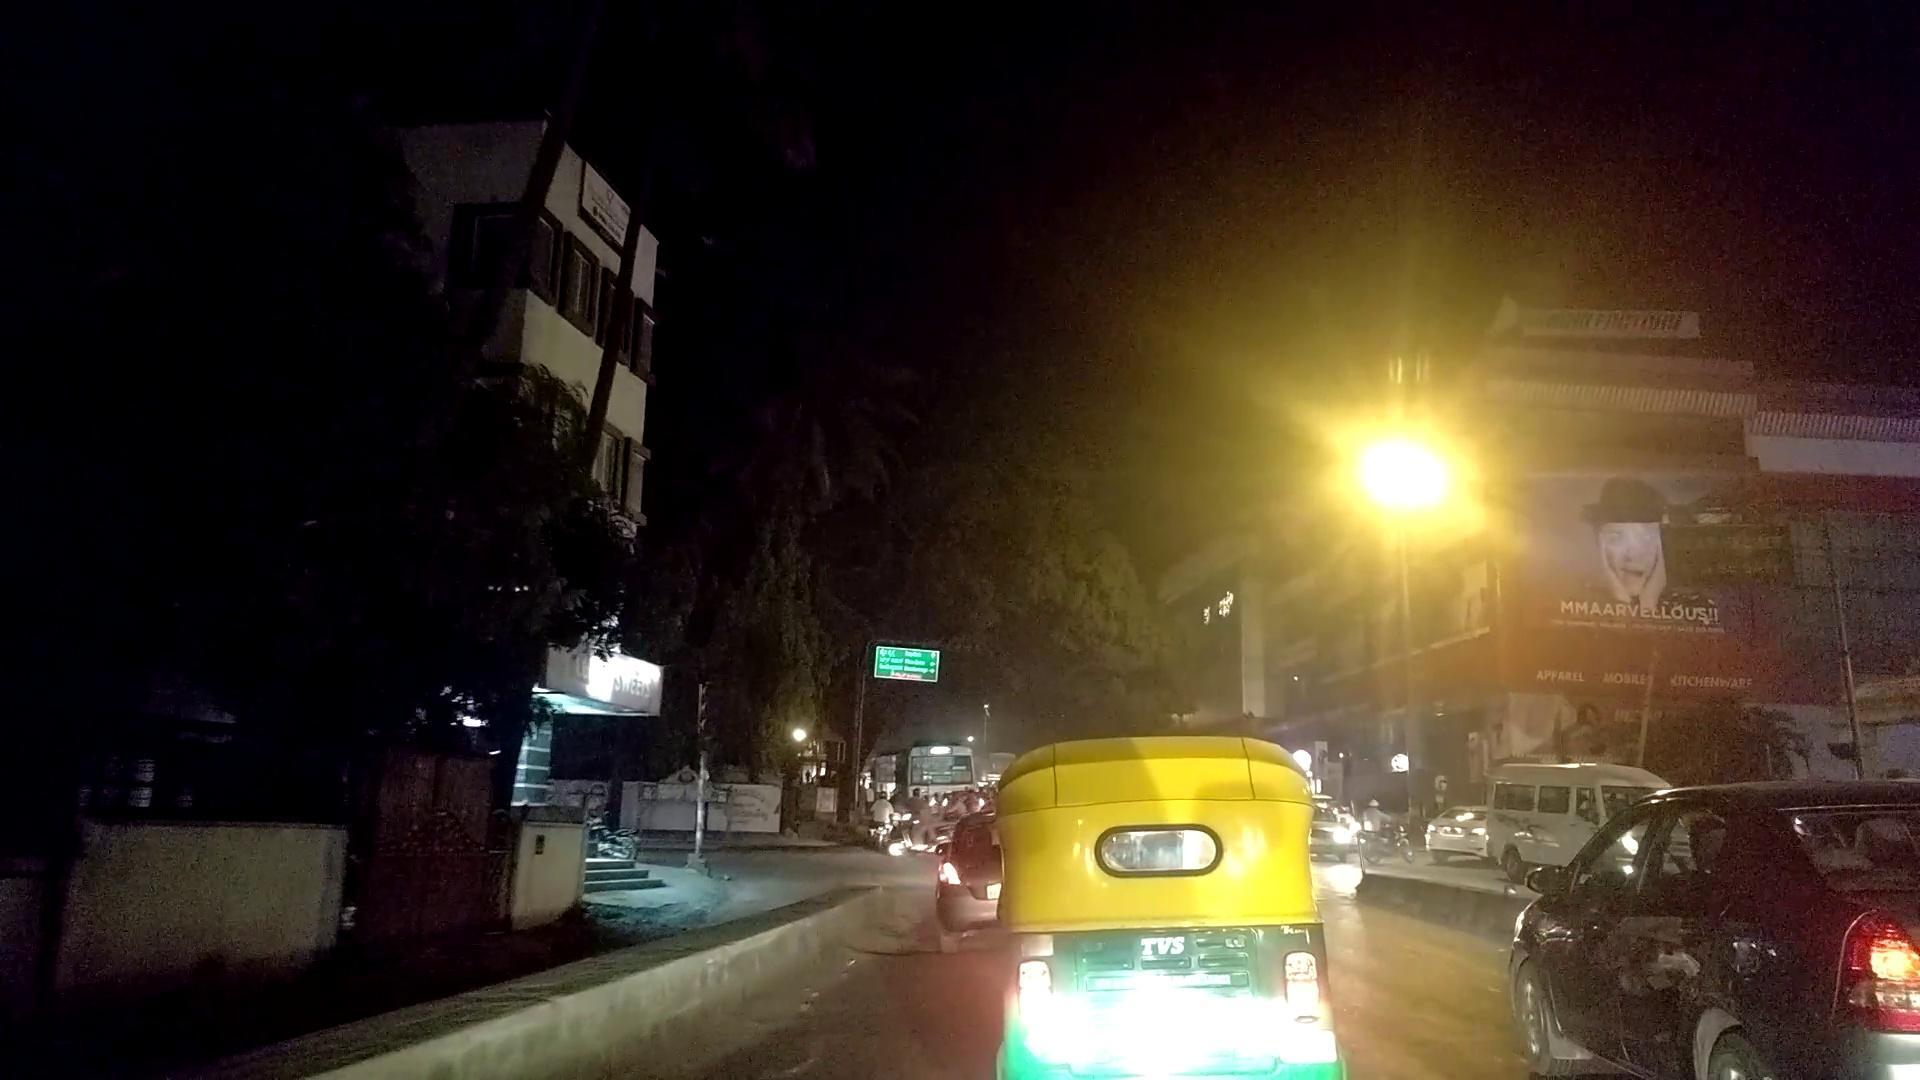on: (1240, 291, 1631, 691)
